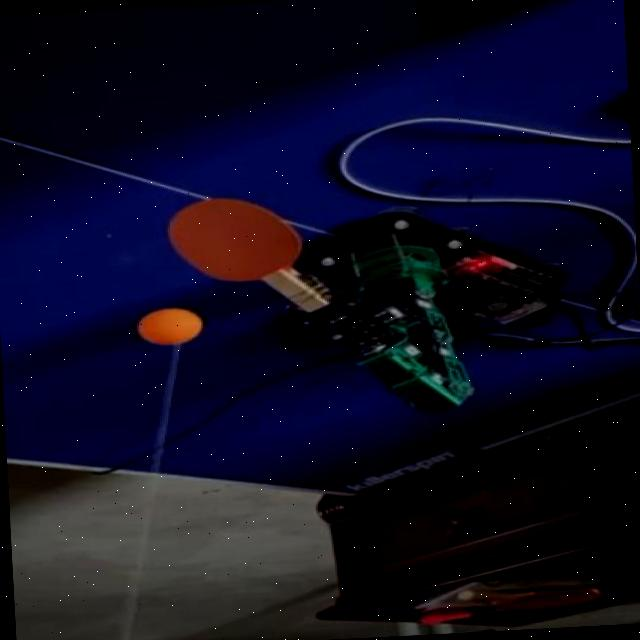ping-pong-ball: (138, 310, 200, 346)
